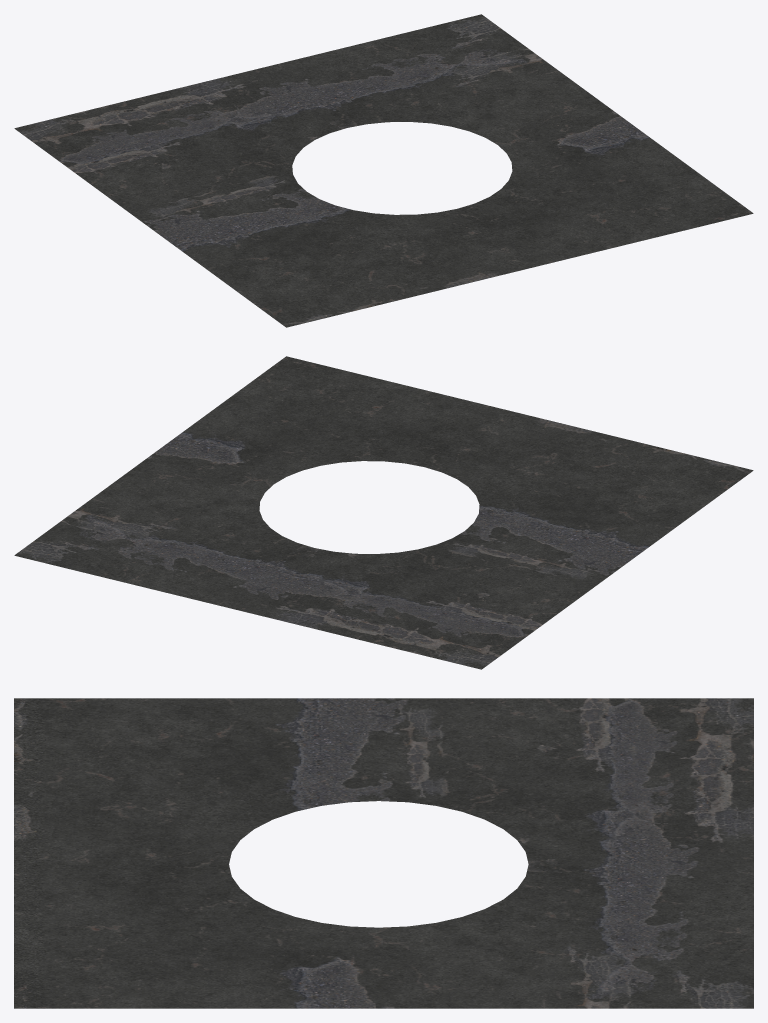
The model's file is roof2.glb.
3 views of the same model, one above another, from view 1: azimuth 30°, elevation 25°; view 2: azimuth 150°, elevation 25°; view 3: azimuth 270°, elevation 25° (orthographic). The views are drawn at different scales.
Parts seen in each view (by area): view 1: Plane.013; view 2: Plane.013; view 3: Plane.013.
Boxes of the visible parts, box(x1,y1,x2,y2) form: Plane.013: box(14, 14, 753, 327); Plane.013: box(14, 356, 753, 669); Plane.013: box(14, 698, 753, 1008).
Bounding box in the file's own units: 60.48 × 0 × 61.01.
1 material, 1 textured.
